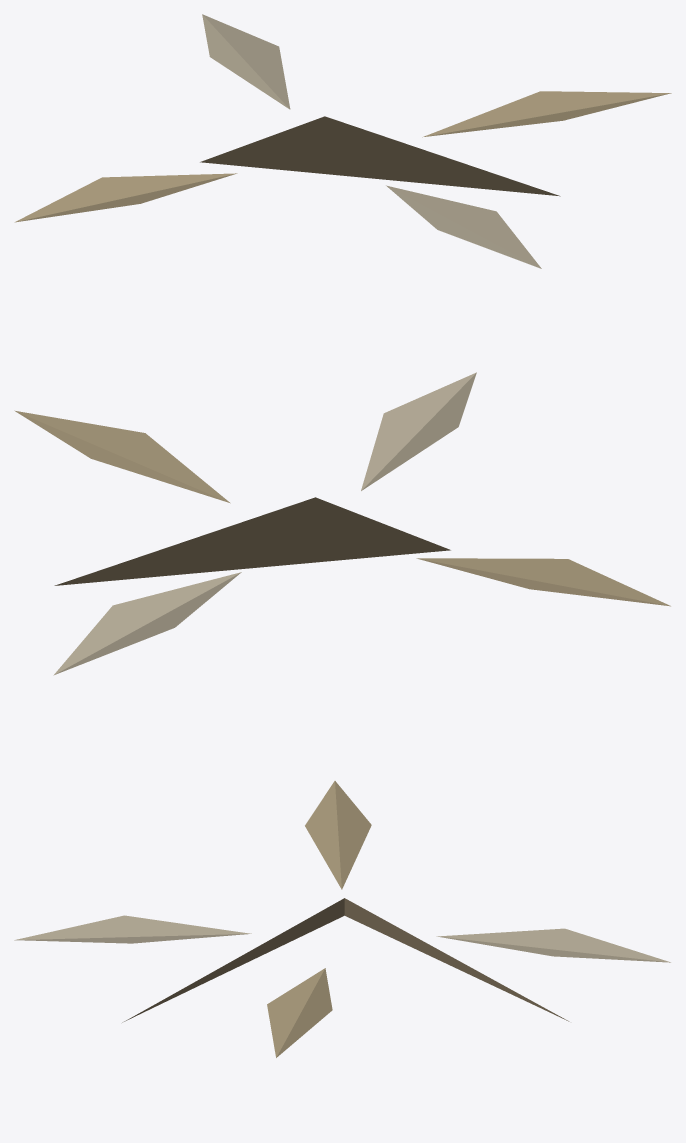
File: cao.yangmao@withered__spring.glb
3 renders of one model, top to bottom at view 1: azimuth 30°, elevation 25°; view 2: azimuth 150°, elevation 25°; view 3: azimuth 270°, elevation 25°, orthographic. The views are drawn at different scales.
Parts seen in each view (by area): view 1: cao.yangmao@withered__spring; view 2: cao.yangmao@withered__spring; view 3: cao.yangmao@withered__spring.
Part boxes in pixels (<box>): cao.yangmao@withered__spring: <box>14,14,671,268</box>; cao.yangmao@withered__spring: <box>14,372,670,675</box>; cao.yangmao@withered__spring: <box>14,781,670,1057</box>.
Bounding box in the file's own units: 0.3041 × 0.064 × 0.304.
